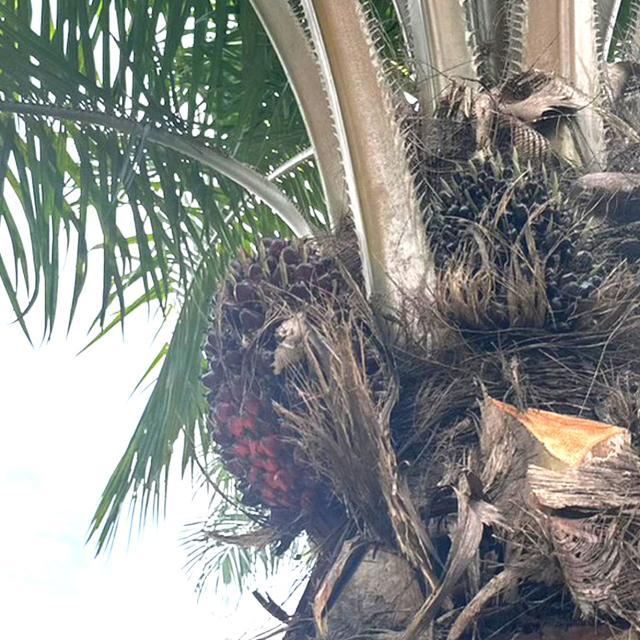ripe: (197, 229, 373, 514), (424, 151, 592, 328)
